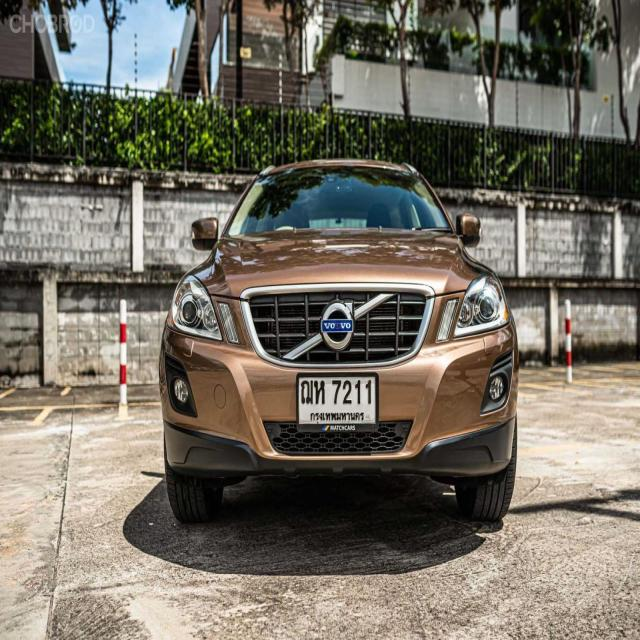license_plate: (296, 362, 384, 441)
